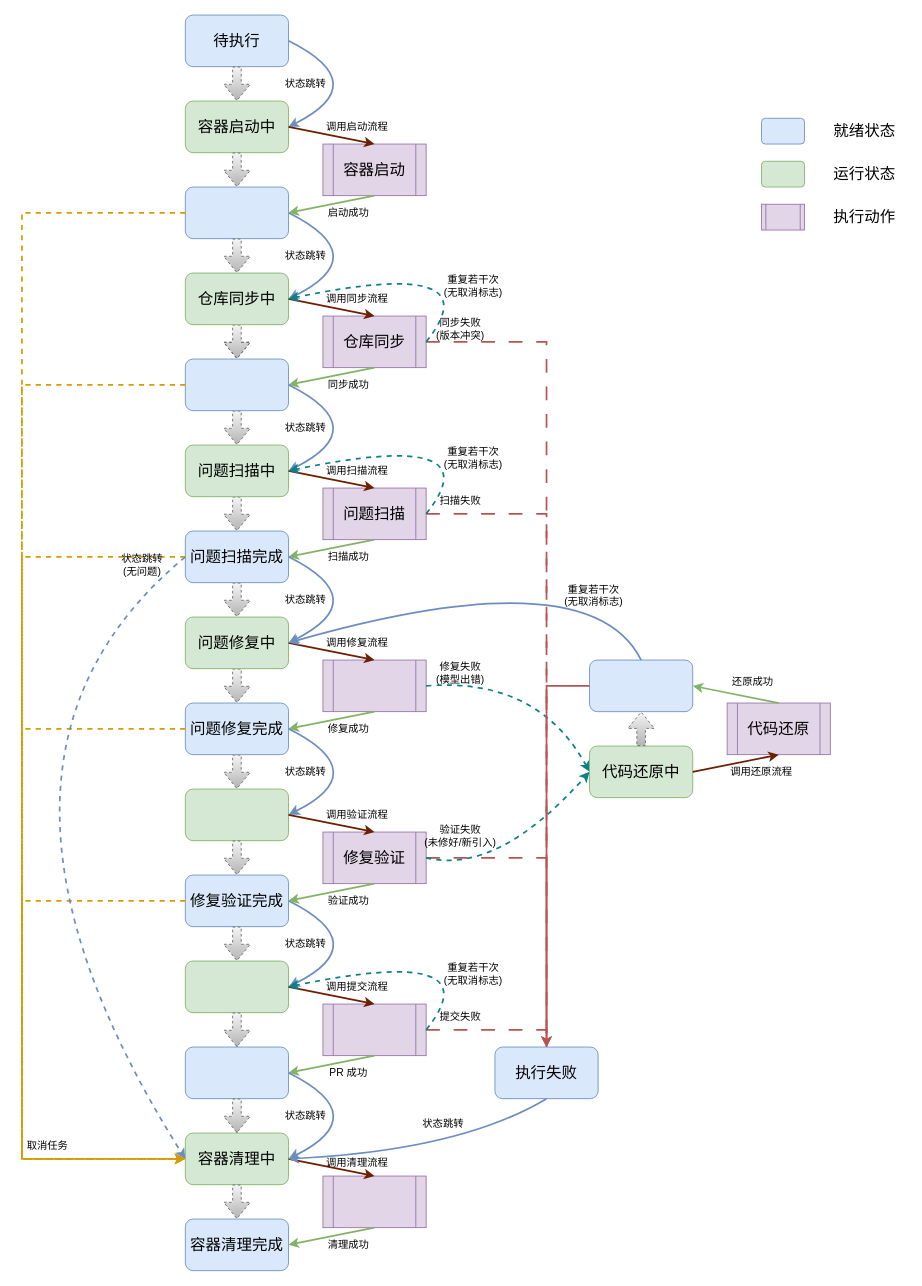
This 922x1286 diagram has some shape labels left out. Each missing label, with the box of its shape:
PR 提交: (322, 1003, 426, 1056)
PR 提交中: (184, 960, 289, 1013)
PR 提交完成: (184, 1046, 289, 1099)
仓库同步完成: (184, 358, 289, 411)
代码还原完成: (589, 659, 693, 712)
修复验证中: (184, 788, 289, 841)
容器启动 完成: (184, 186, 289, 239)
容器清理: (322, 1175, 426, 1228)
问题修复: (322, 659, 426, 712)
